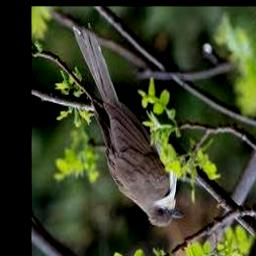Cuckoo: (72, 22, 184, 228)
